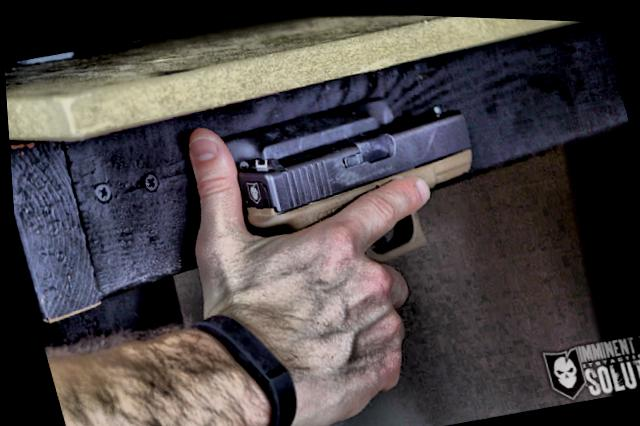pistol: (216, 77, 502, 285)
